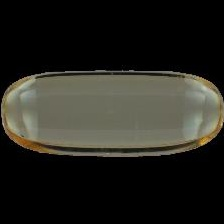69189-0027: (0, 0, 224, 224)
